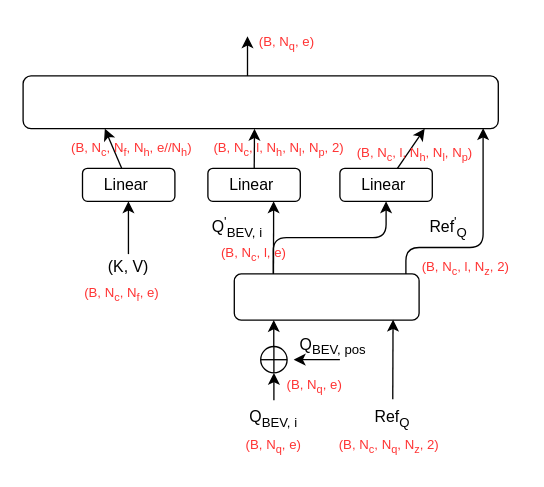
Image size: 544x487. Some labels were removed from this diagram. Each missing label, with the centre of its shape:
convert query from EBV to each camera: [326,296]
Deformable Attention: [260,102]
